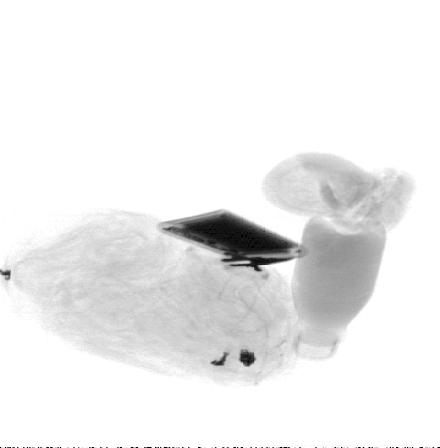Powerbank: (157, 207, 308, 261)
Scissors: (187, 245, 310, 282)
